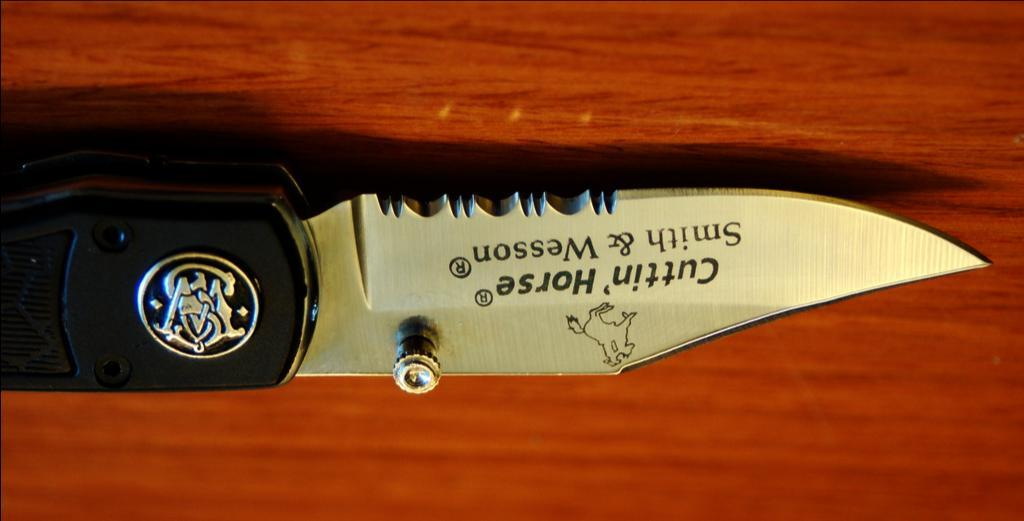melee: (0, 150, 990, 394)
